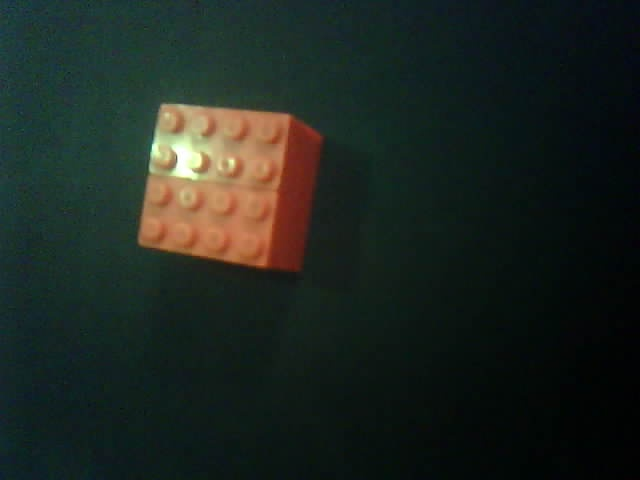lego: (136, 101, 322, 274)
